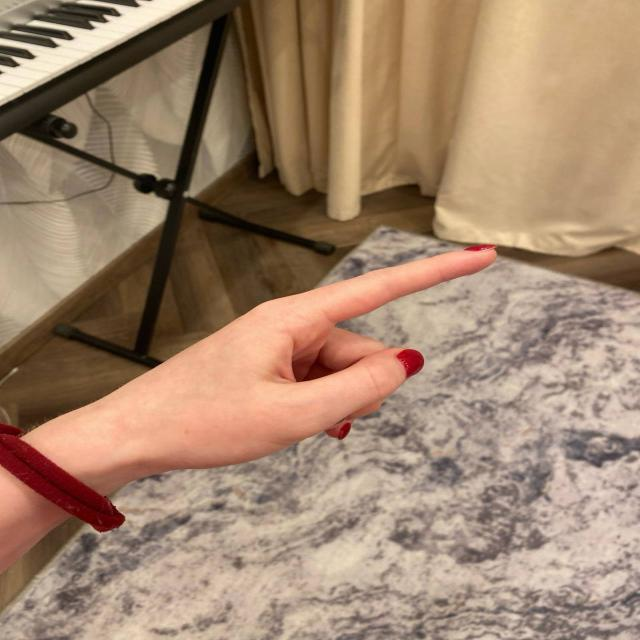z: (131, 228, 560, 445)
